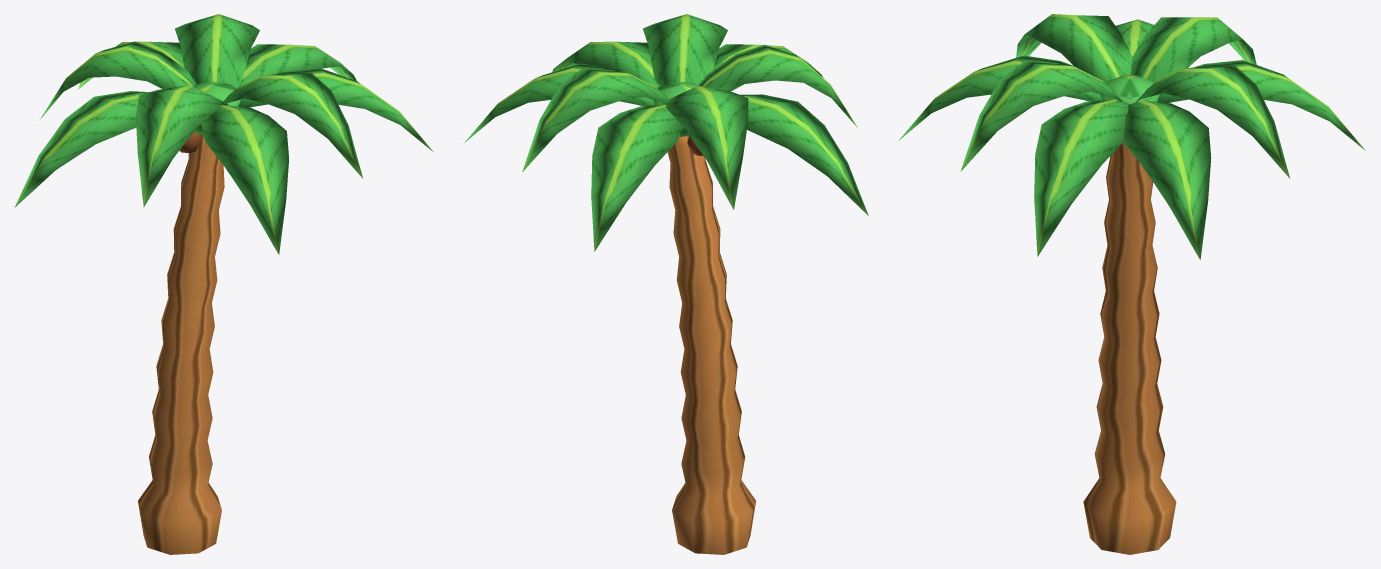
Rendered from palm_0.glb.
3 renders of one model, left to right at view 1: azimuth 30°, elevation 25°; view 2: azimuth 150°, elevation 25°; view 3: azimuth 270°, elevation 25°, orthographic. The views are drawn at different scales.
Parts seen in each view (by area): view 1: palm_0; view 2: palm_0; view 3: palm_0.
Part boxes in pixels (x1,y1,x2,y2): palm_0: (14,14,433,554); palm_0: (463,14,868,554); palm_0: (898,14,1365,554).
Size of the model in its own units: 6.84 by 8.23 by 6.89.
2 materials, 2 textured.
